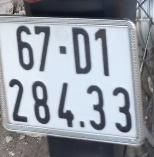1: (95, 27, 114, 81)
2: (5, 74, 29, 123)
3: (83, 84, 108, 135), (112, 83, 134, 134)
4: (55, 75, 79, 129)
6: (14, 23, 35, 71)
7: (35, 20, 53, 73)
8: (31, 78, 54, 128)
D: (67, 24, 95, 77)
